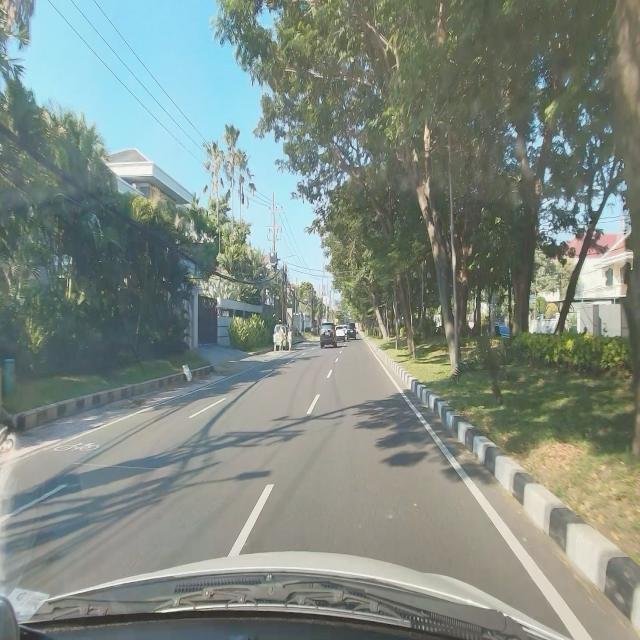car: (319, 321, 337, 350)
